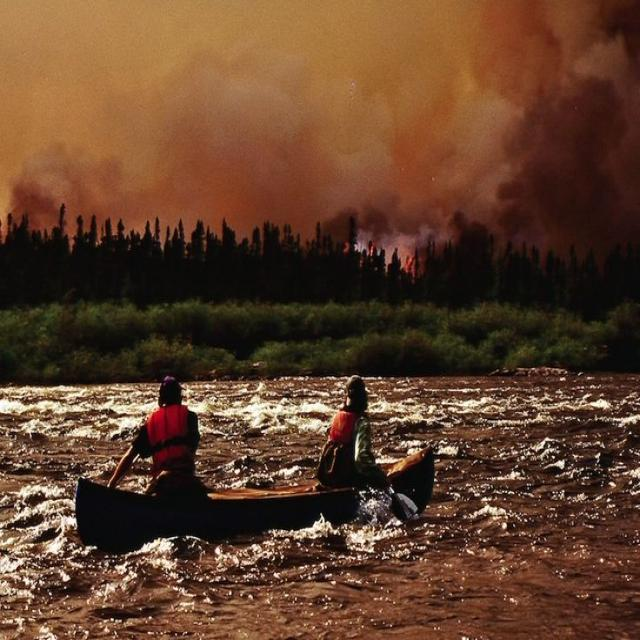Fire: (399, 252, 416, 280)
Smoke: (0, 3, 640, 281)
